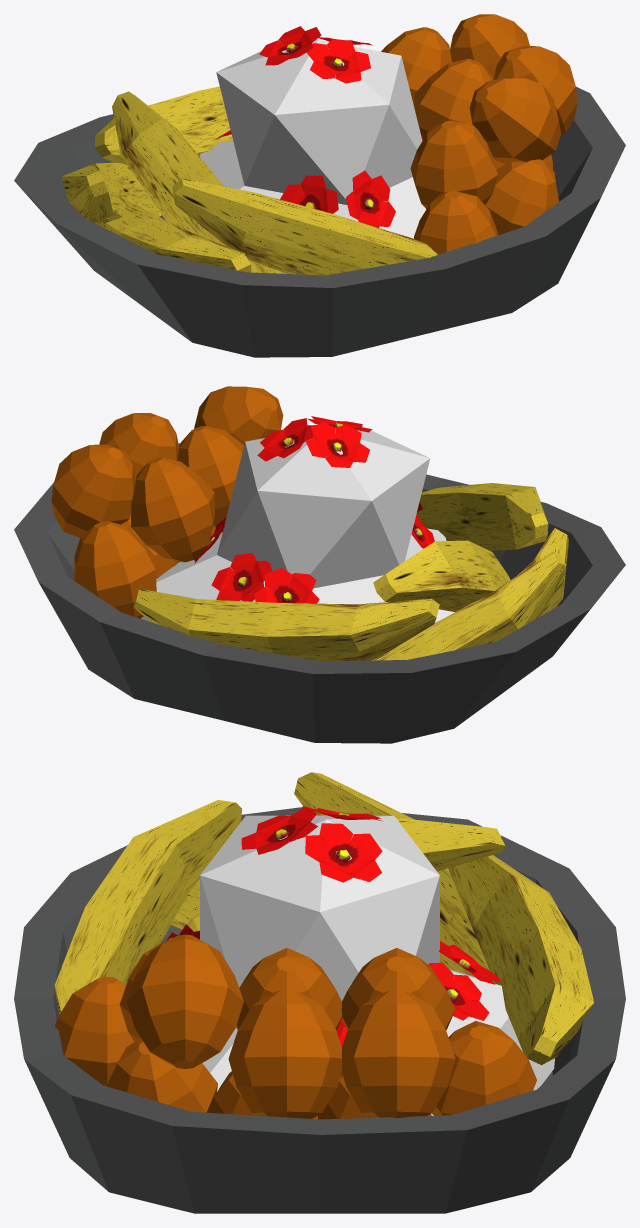
The model's file is Offering Kuda Kepang.fbx.
The picture shows the model from 3 angles, top to bottom: view 1: azimuth 30°, elevation 25°; view 2: azimuth 150°, elevation 25°; view 3: azimuth 270°, elevation 25°; orthographic projection. The views are drawn at different scales.
Visible parts, largest first — view 1: Cube.001, Pulut, Banana.001, Banana.005, Egg.010, Egg.007, Banana.002, Banana.006, Banana.003, Egg.003, Egg.004, Egg.005 (+7 smaller); view 2: Cube.001, Pulut, Banana.006, Banana.003, Banana.001, Egg.006, Banana.005, Egg.009, Egg.002, Egg.010, Egg.005, Egg.008 (+5 smaller); view 3: Cube.001, Pulut, Banana.006, Banana.001, Egg.009, Egg.008, Egg.010, Egg.002, Egg.004, Banana.003, Egg.003, Egg.006 (+10 smaller).
Boxes of the visible parts, x1=… form: Cube.001: x1=14, y1=86, x2=625, y2=357; Pulut: x1=199, y1=39, x2=426, y2=273; Banana.001: x1=172, y1=178, x2=437, y2=275; Banana.005: x1=112, y1=91, x2=282, y2=273; Egg.010: x1=469, y1=78, x2=560, y2=163; Egg.007: x1=410, y1=120, x2=497, y2=208; Banana.002: x1=103, y1=200, x2=251, y2=272; Banana.006: x1=95, y1=86, x2=232, y2=165; Banana.003: x1=61, y1=162, x2=161, y2=226; Egg.003: x1=485, y1=159, x2=558, y2=235; Egg.004: x1=414, y1=191, x2=497, y2=254; Egg.005: x1=414, y1=59, x2=492, y2=138; Cube.001: x1=14, y1=443, x2=625, y2=743; Pulut: x1=141, y1=421, x2=454, y2=622; Banana.006: x1=134, y1=588, x2=439, y2=661; Banana.003: x1=372, y1=551, x2=566, y2=660; Banana.001: x1=416, y1=483, x2=548, y2=550; Egg.006: x1=130, y1=457, x2=214, y2=562; Banana.005: x1=373, y1=540, x2=510, y2=611; Egg.009: x1=51, y1=444, x2=135, y2=537; Egg.002: x1=74, y1=521, x2=156, y2=618; Egg.010: x1=194, y1=386, x2=283, y2=445; Egg.005: x1=177, y1=426, x2=243, y2=528; Egg.008: x1=99, y1=413, x2=178, y2=478; Cube.001: x1=14, y1=807, x2=625, y2=1213; Pulut: x1=200, y1=815, x2=554, y2=1115; Banana.006: x1=448, y1=855, x2=594, y2=1064; Banana.001: x1=54, y1=800, x2=241, y2=1014; Egg.009: x1=341, y1=991, x2=455, y2=1118; Egg.008: x1=228, y1=991, x2=342, y2=1118; Egg.010: x1=126, y1=934, x2=243, y2=1068; Egg.002: x1=432, y1=1021, x2=536, y2=1115; Egg.004: x1=55, y1=977, x2=134, y2=1086; Banana.003: x1=294, y1=772, x2=494, y2=982; Egg.003: x1=107, y1=1038, x2=217, y2=1112; Egg.006: x1=341, y1=948, x2=455, y2=1030.
Size of the model in its own units: 290 by 119 by 227.
5 materials, 2 textured.
